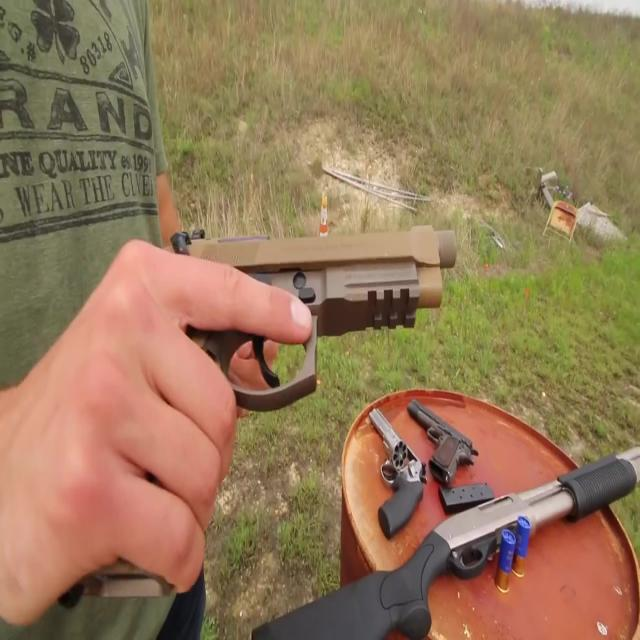Weapon: (57, 98, 640, 639)
